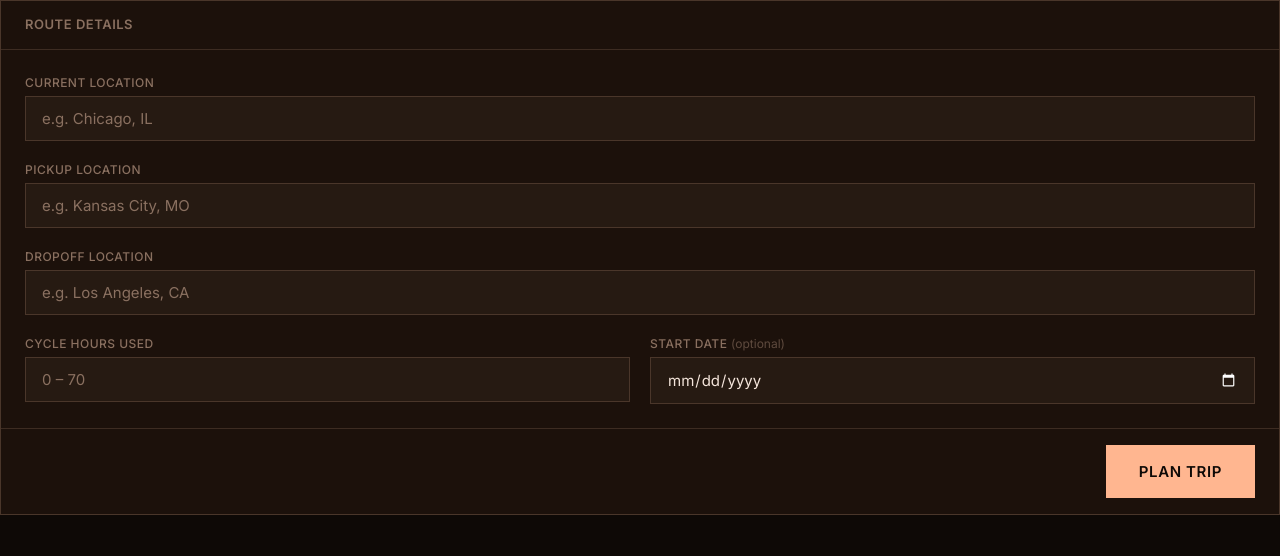
Test case: TripForm › shows error when cycle hours exceed 70
Type "75" into the number field labelled "Cycle Hours Used".
click(328, 379); type("75")  # box [25,357,630,402]
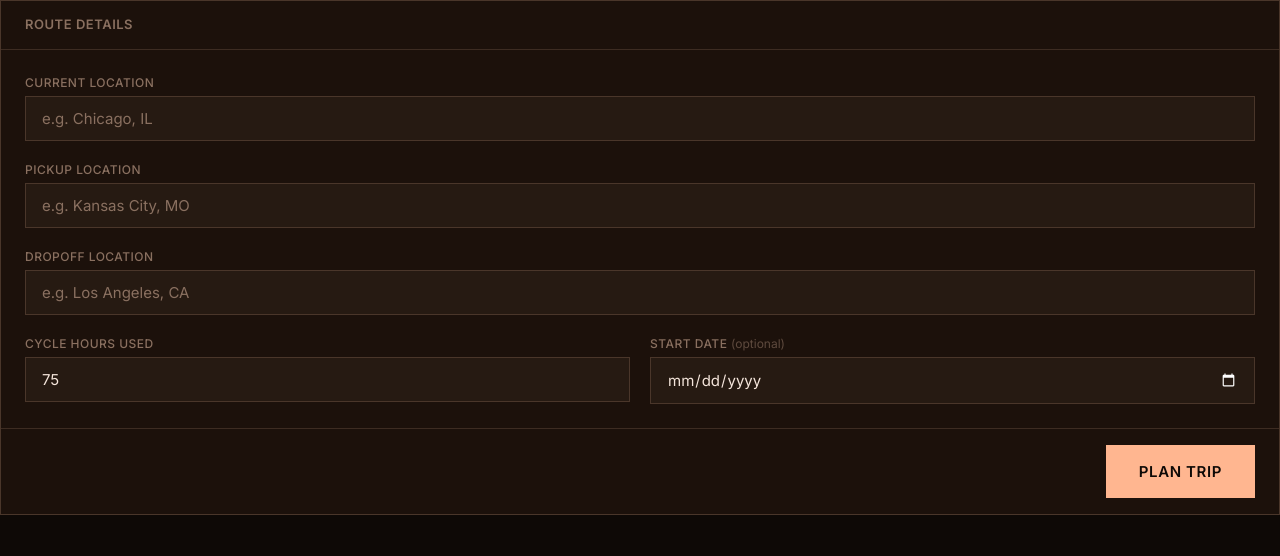
Leave the number field labelled "Cycle Hours Used", box [25,357,630,402]
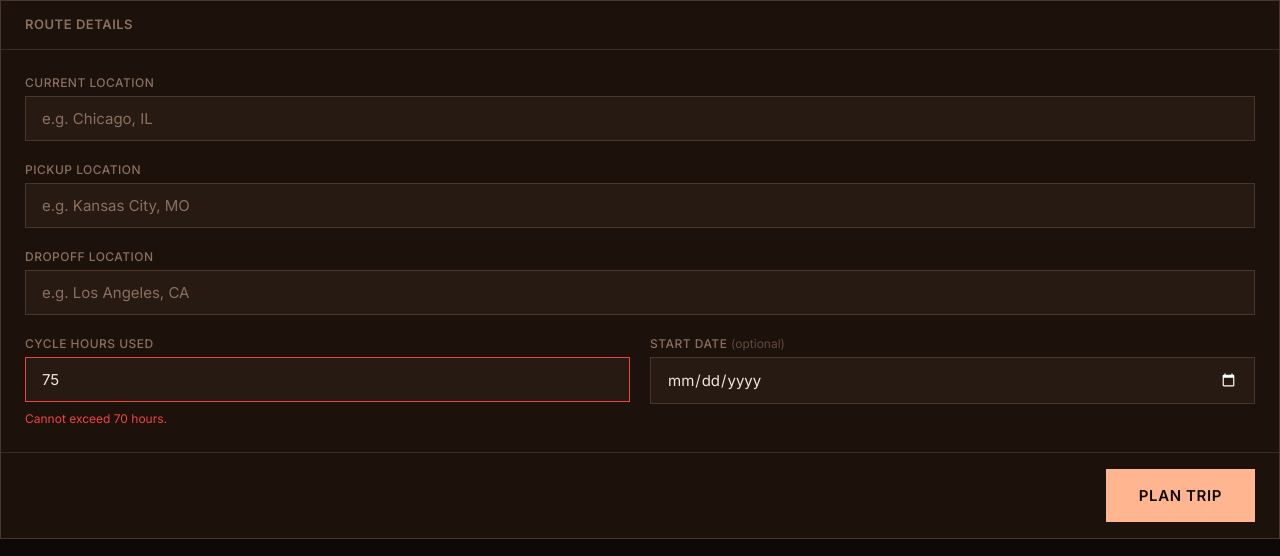
expect the text "Cannot exceed 70 hours." is shown: met, box [25,411,167,426]
